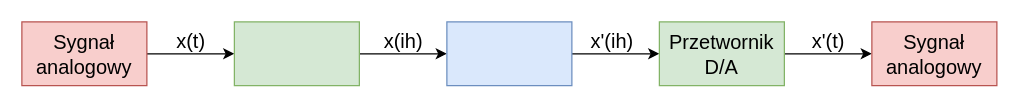
Image size: 1019x108. Some labels were removed from this diagram. Each missing label, with the centre of its shape:
Procesor sygnałowy: the point at 509,53
Przetwornik A/C: the point at 296,53
